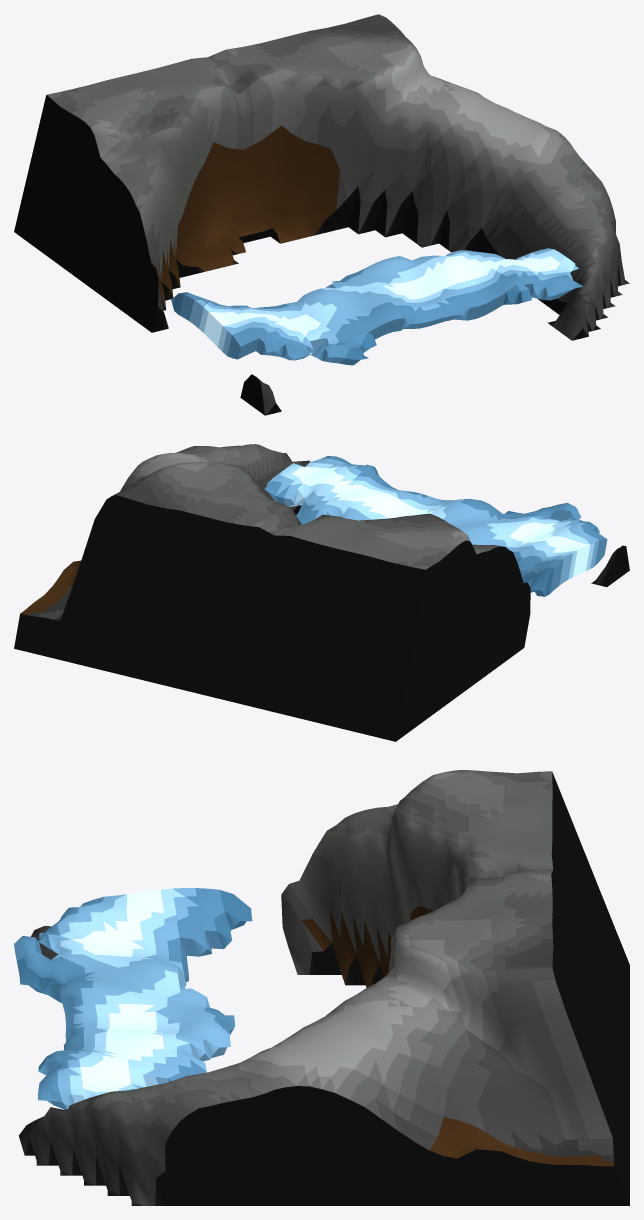
The model's file is rock_machine_bc_9.glb.
3 renders of one model, top to bottom at view 1: azimuth 30°, elevation 25°; view 2: azimuth 150°, elevation 25°; view 3: azimuth 270°, elevation 25°, orthographic. The views are drawn at different scales.
Parts seen in each view (by area): view 1: rock_machine_bc_9; view 2: rock_machine_bc_9; view 3: rock_machine_bc_9.
Boxes of the visible parts, x1=… form: rock_machine_bc_9: x1=14, y1=14, x2=629, y2=415; rock_machine_bc_9: x1=14, y1=444, x2=629, y2=741; rock_machine_bc_9: x1=14, y1=770, x2=629, y2=1205.
Bounding box in the file's own units: 24 × 9.21 × 25.95.
